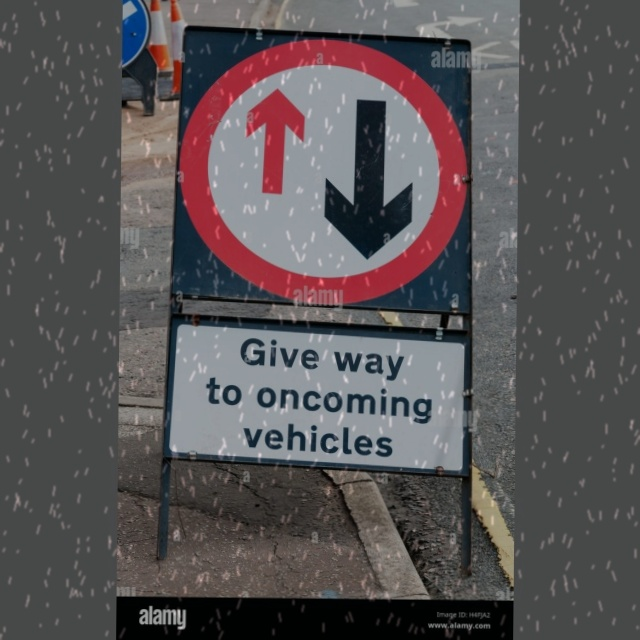Priority_for_Oncoming_Traffic: (179, 36, 473, 307)
